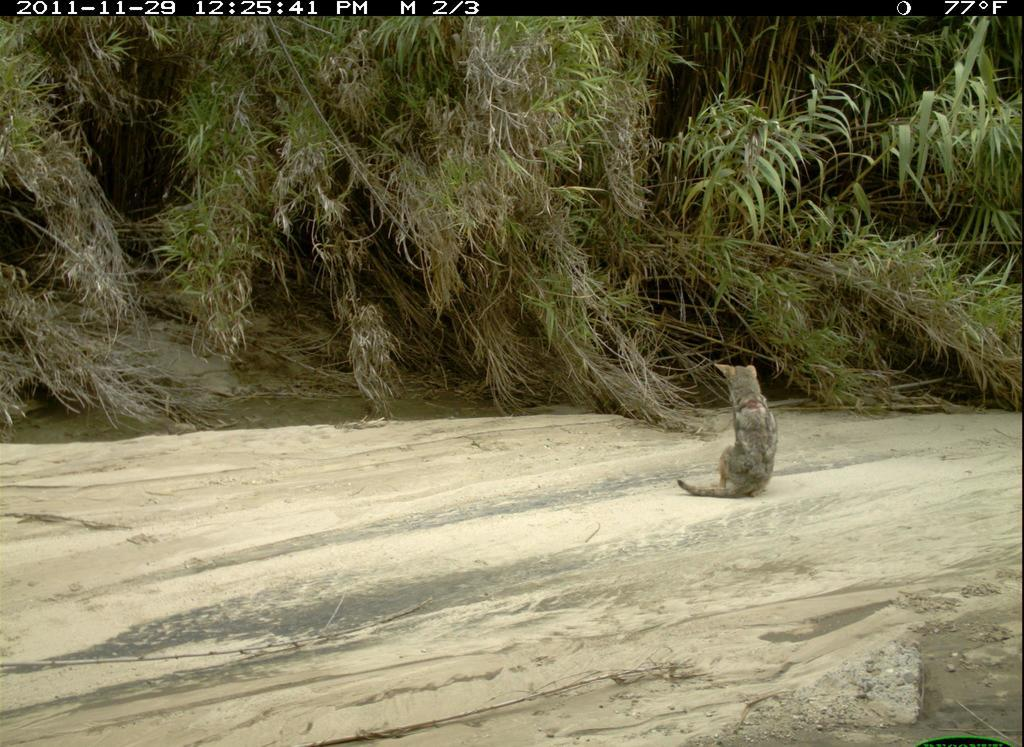coyote: (673, 358, 784, 505)
